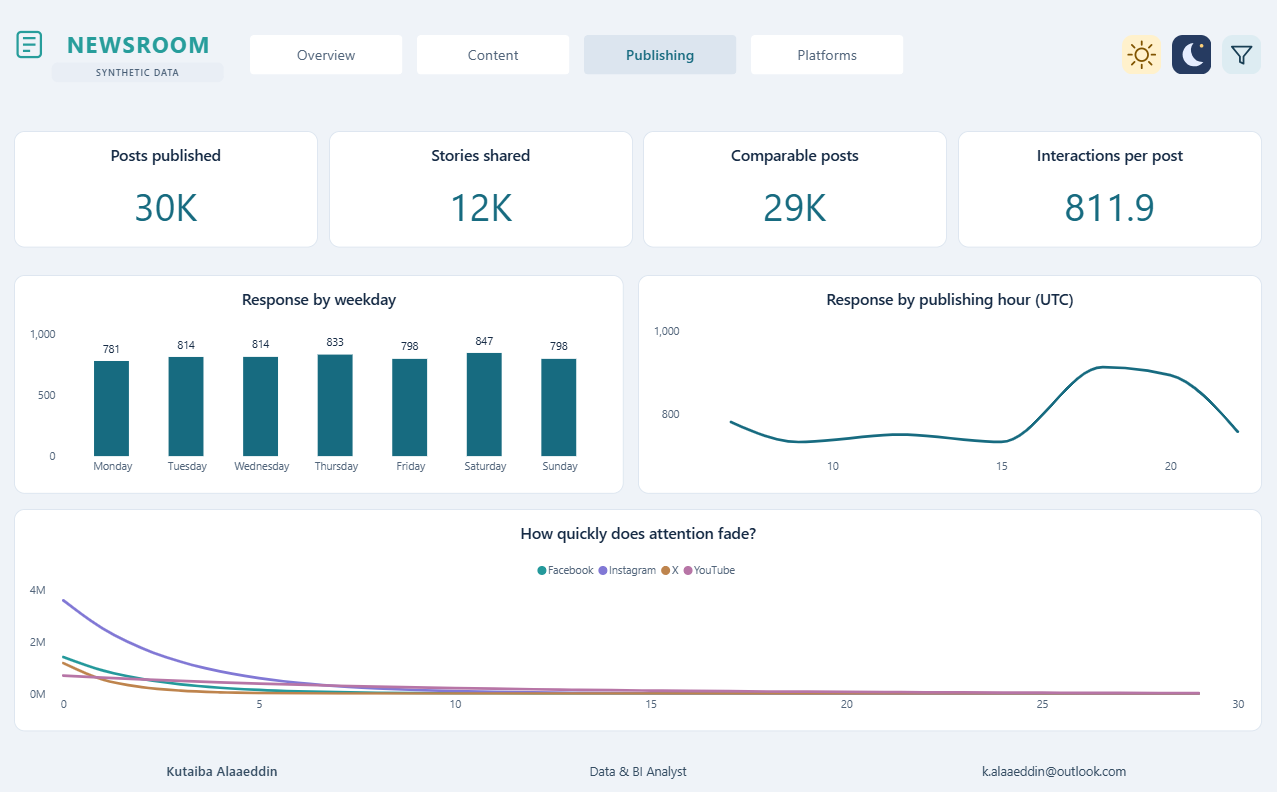

The dashboard page shown, as its layout file describes it:
{"tool":"powerbi","page":{"name":"Publishing strategy","canvas":[1440,880],"ordinal":2},"visuals":[{"type":"image","box":[0,0,1440,880],"z":0},{"type":"actionButton","box":[288,28,170,44],"z":3000},{"type":"actionButton","box":[474,28,170,44],"z":4000},{"type":"actionButton","box":[660,28,170,44],"z":5000},{"type":"actionButton","box":[846,28,170,44],"z":6000},{"type":"image","box":[1372,28,44,44],"z":8000},{"type":"image","box":[24,14,240,70],"z":9000},{"type":"card","title":"Posts published","fields":{"Values":["ReportMetrics.Posts Published"]},"box":[24.2,134.5,338.5,130],"z":10000},{"type":"card","title":"Stories shared","fields":{"Values":["ReportMetrics.Articles Shared"]},"box":[375.3,134.5,338.5,130],"z":11000},{"type":"card","title":"Comparable posts","fields":{"Values":["ReportMetrics.Mature Posts"]},"box":[726.5,134.5,338.5,130],"z":12000},{"type":"card","title":"Interactions per post","fields":{"Values":["ReportMetrics.Mean Mature Interactions"]},"box":[1077.6,134.5,338.5,130],"z":13000},{"type":"clusteredColumnChart","title":"Response by weekday","fields":{"Category":["DimPost.PublishWeekday"],"Y":["ReportMetrics.Mean Mature Interactions"]},"box":[24,296,680,244],"z":14000},{"type":"lineChart","title":"Response by publishing hour (UTC)","fields":{"Category":["DimPost.PublishHourUTC"],"Y":["ReportMetrics.Mean Mature Interactions"]},"box":[720,296,696,244],"z":15000},{"type":"lineChart","title":"How quickly does attention fade?","fields":{"Category":["FactPostDaily.DaysSincePublished"],"Series":["DimPost.Platform"],"Y":["ReportMetrics.Interactions"]},"box":[24,556,1392,248],"z":16000},{"type":"image","box":[1260,28,44,44],"z":17000},{"type":"image","box":[1316,28,44,44],"z":19000},{"type":"image","box":[24,828,1392,40],"z":20000}]}

Visuals, with their boxes in screenshot pixels (x1, y1, x2, y2), scaled from the page's 1440x880 canvas onto the 1277x792 screenshot:
image: bbox=[0, 0, 1276, 791]
actionButton: bbox=[255, 25, 406, 65]
actionButton: bbox=[420, 25, 571, 65]
actionButton: bbox=[585, 25, 736, 65]
actionButton: bbox=[750, 25, 901, 65]
image: bbox=[1217, 25, 1256, 65]
image: bbox=[21, 13, 234, 76]
"Posts published" card: bbox=[21, 121, 322, 238]
"Stories shared" card: bbox=[333, 121, 633, 238]
"Comparable posts" card: bbox=[644, 121, 944, 238]
"Interactions per post" card: bbox=[956, 121, 1256, 238]
"Response by weekday" clusteredColumnChart: bbox=[21, 266, 624, 486]
"Response by publishing hour (UTC)" lineChart: bbox=[638, 266, 1256, 486]
"How quickly does attention fade?" lineChart: bbox=[21, 500, 1256, 724]
image: bbox=[1117, 25, 1156, 65]
image: bbox=[1167, 25, 1206, 65]
image: bbox=[21, 745, 1256, 781]
